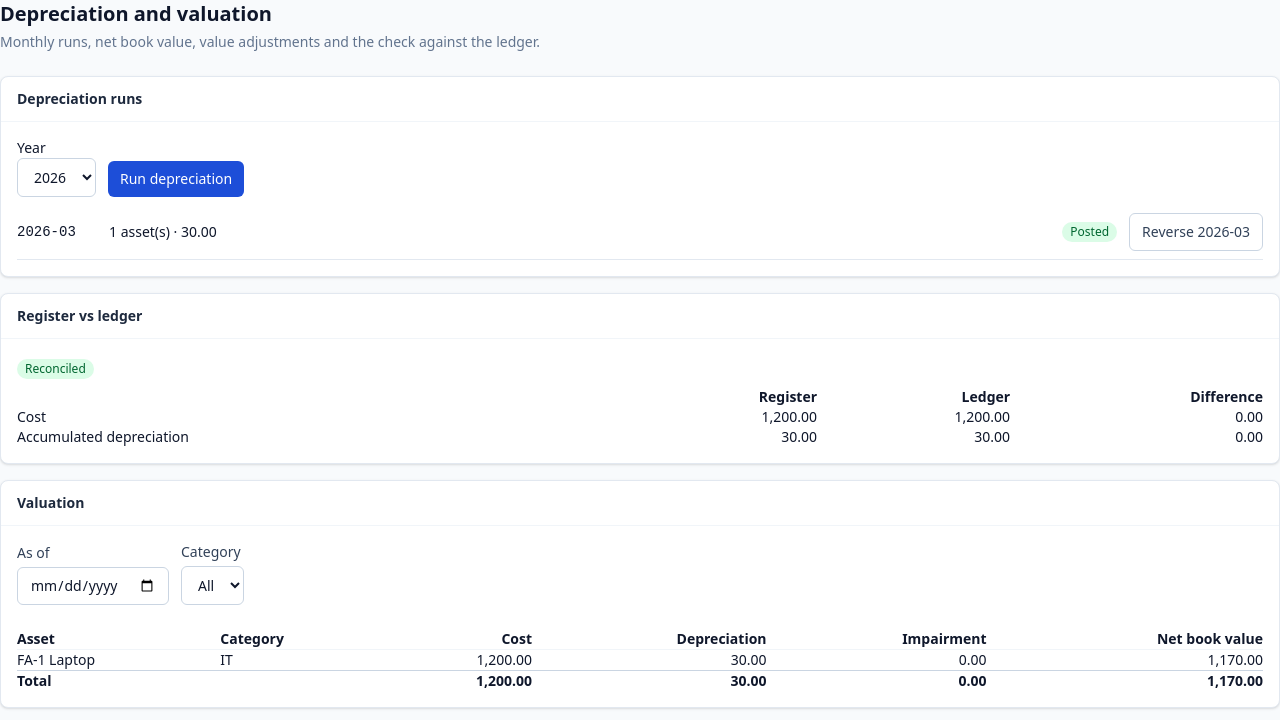
Test: DepreciationPage › runs depreciation and shows the server refusal for a gap
Click the button "Run depreciation" at (176, 179), box 108,161 -> 244,197
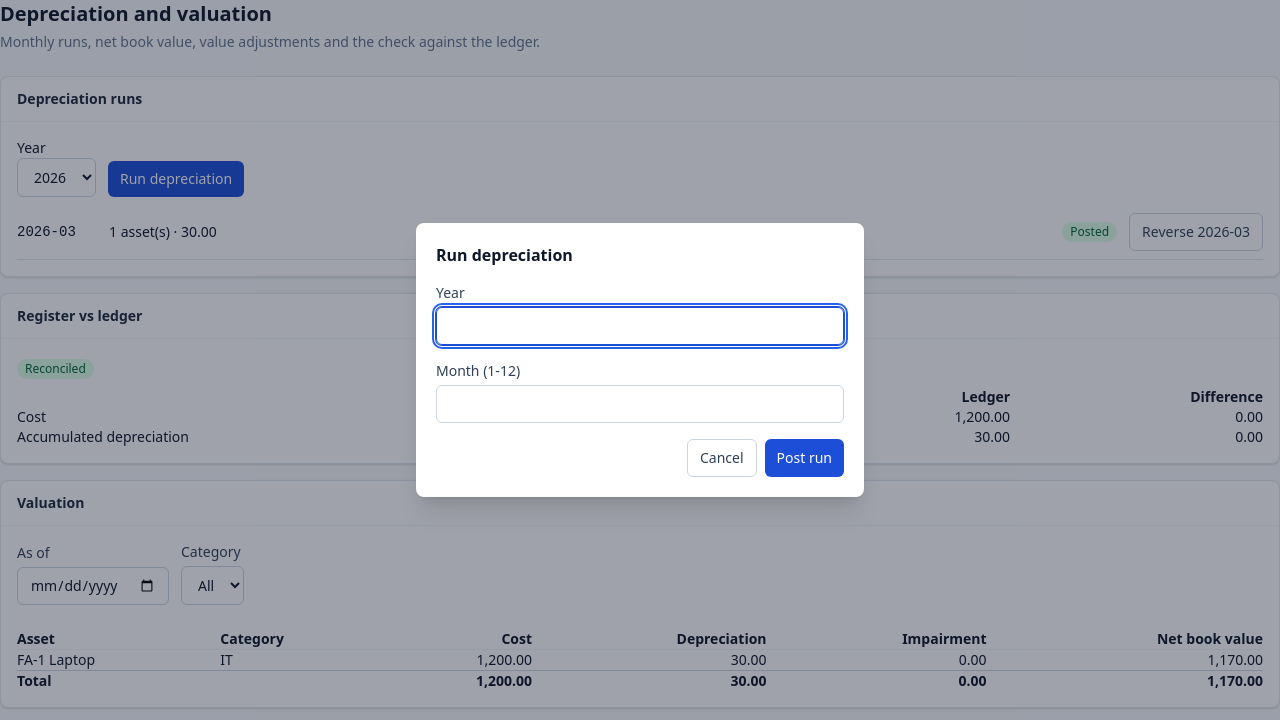
Type "2026" into the field labelled "Year" at (640, 326), box 436,307 -> 844,345
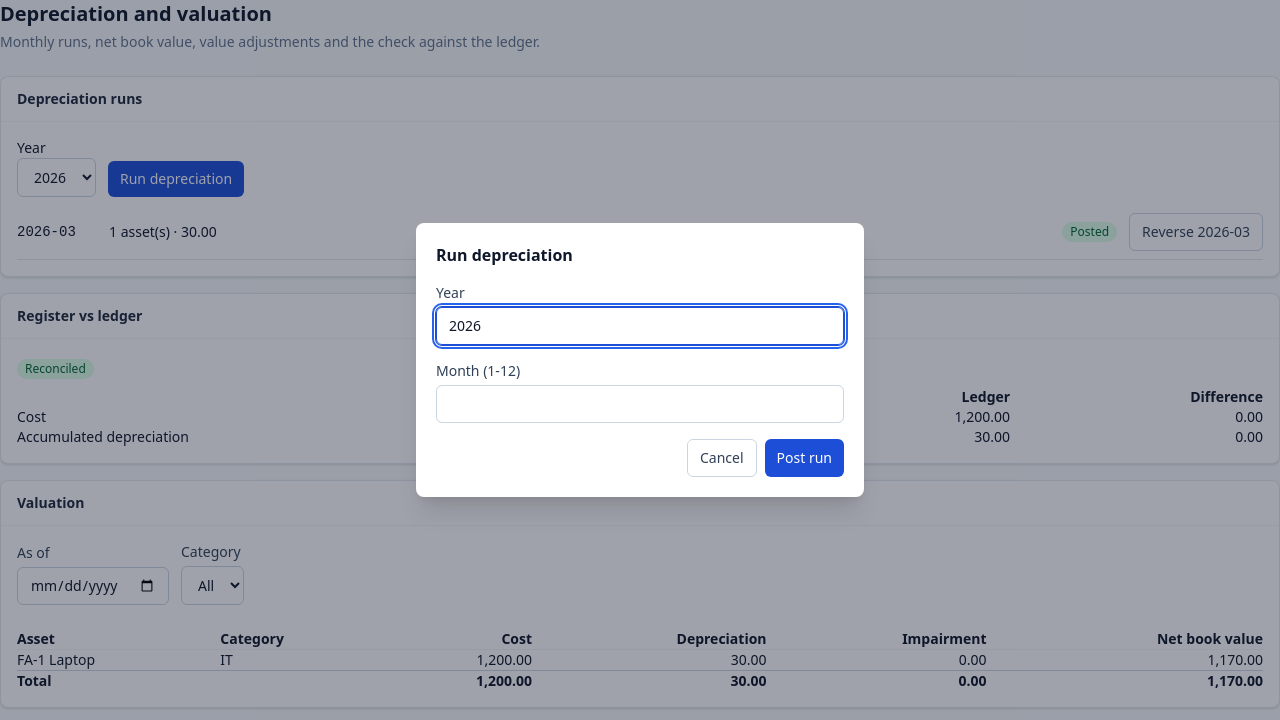
Type "5" into the field labelled "Month (1-12)" at (640, 404), box 436,385 -> 844,423
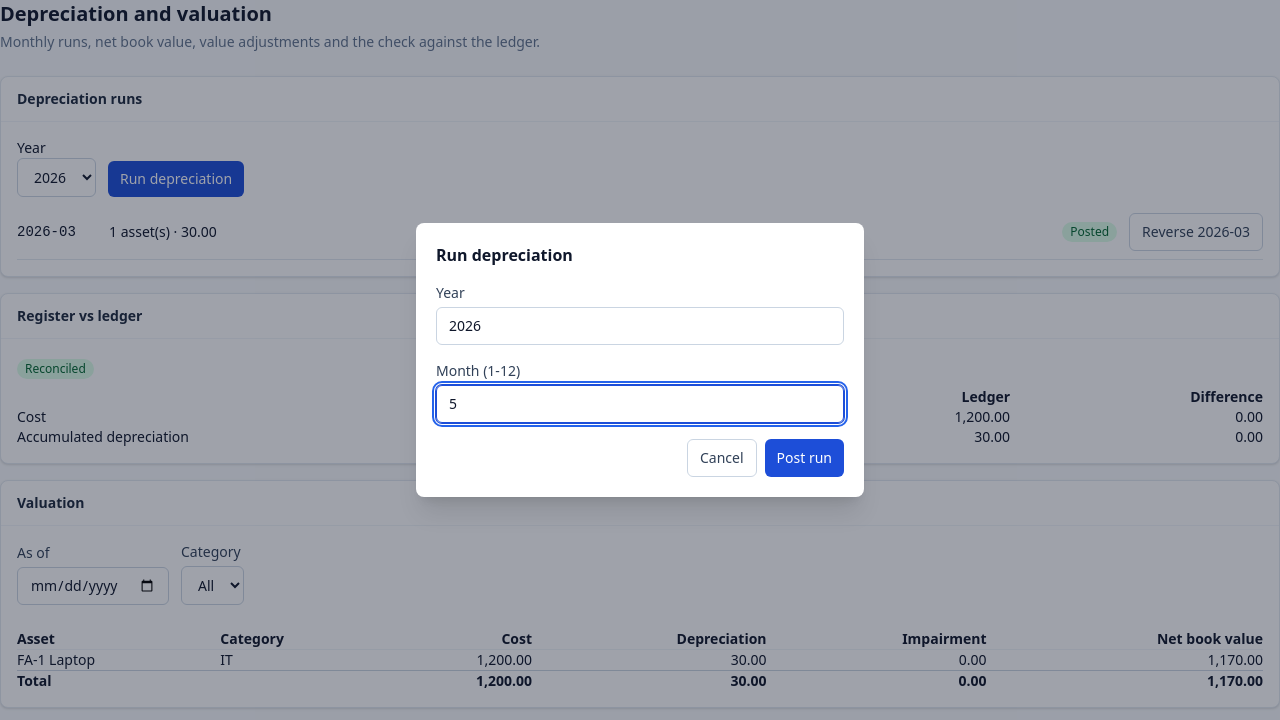
Click the button "Post run" at (804, 458), box 765,439 -> 844,477
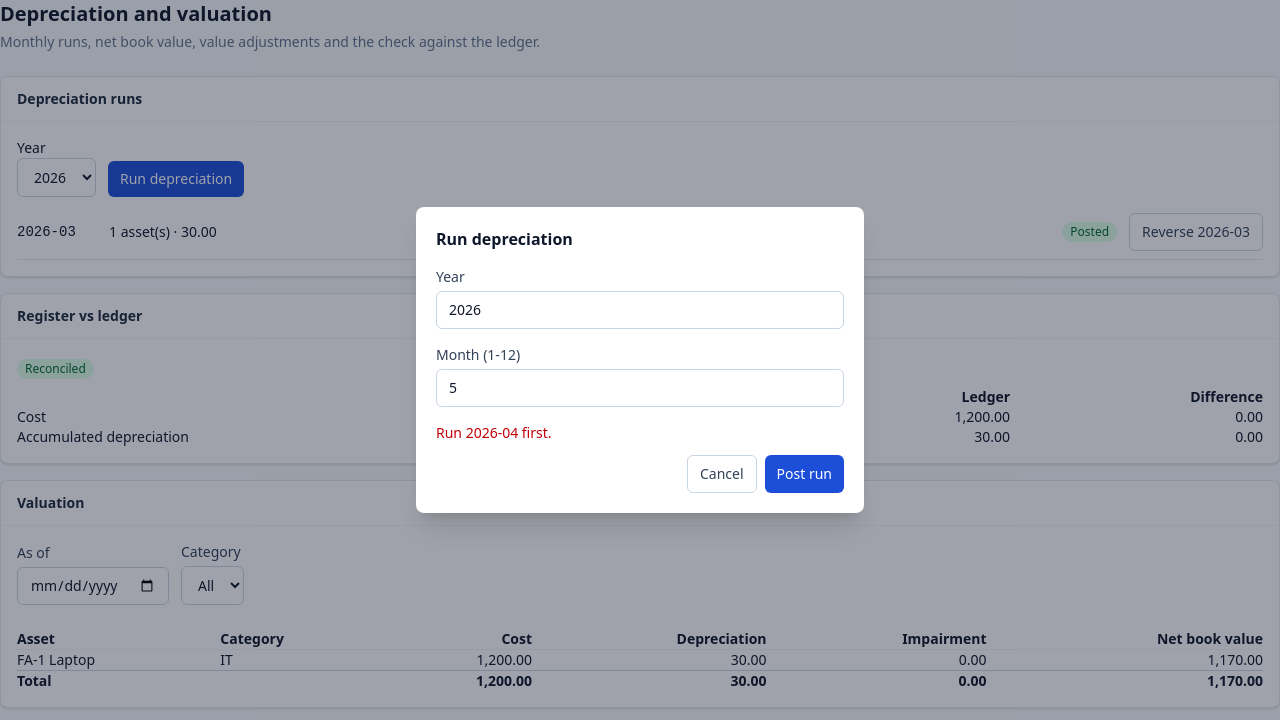
Now the text "Run 2026-04 first." is shown, box 436,423 -> 552,442
